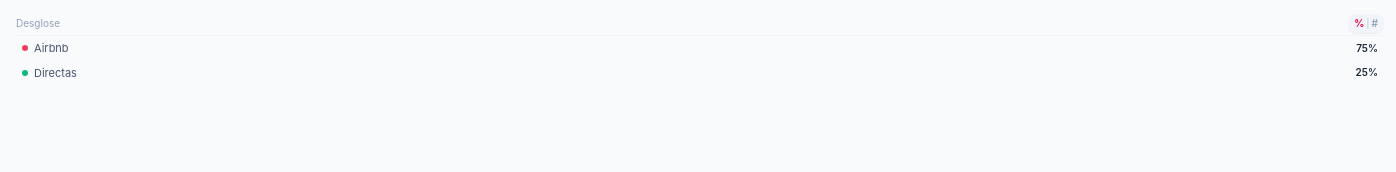
Test case: MiniPieCardChart Component › supports non-currency items with custom unit label and toggles
Expected: the text "Airbnb" is shown, [34,40,69,56]
Expected: the text "75%" is shown, [1356,41,1378,56]
Click toggle button to switch to quantity mode
Click the button at (1366, 24), box [1348,14,1384,33]
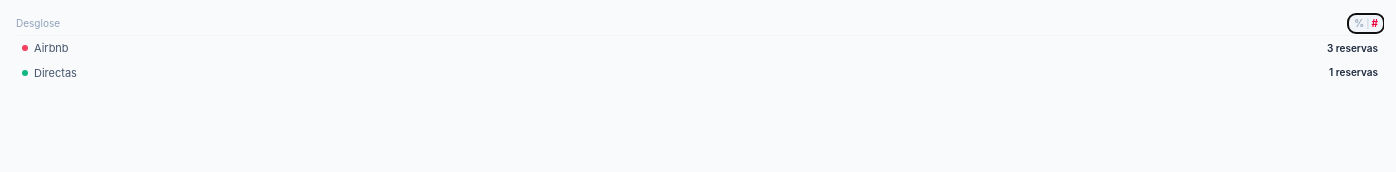
Now the text "3 reservas" is shown, box [1327,41,1378,56]
Now the text "1 reservas" is shown, box [1329,65,1378,80]
